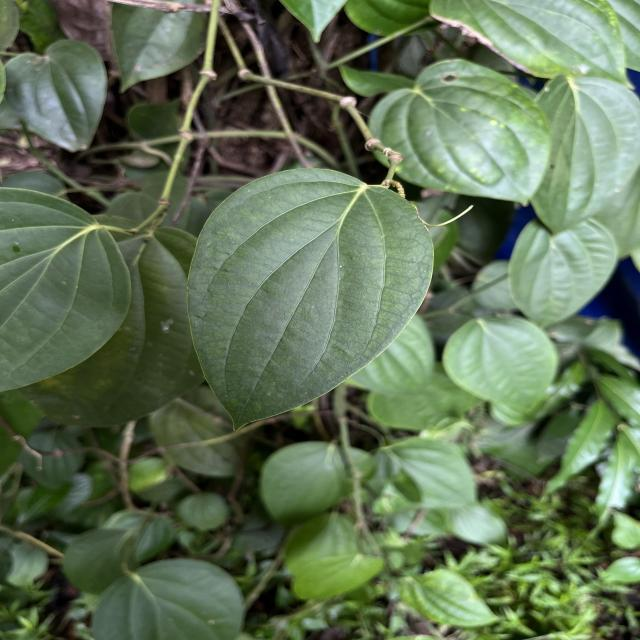Piper nigrum: (183, 166, 436, 433)
